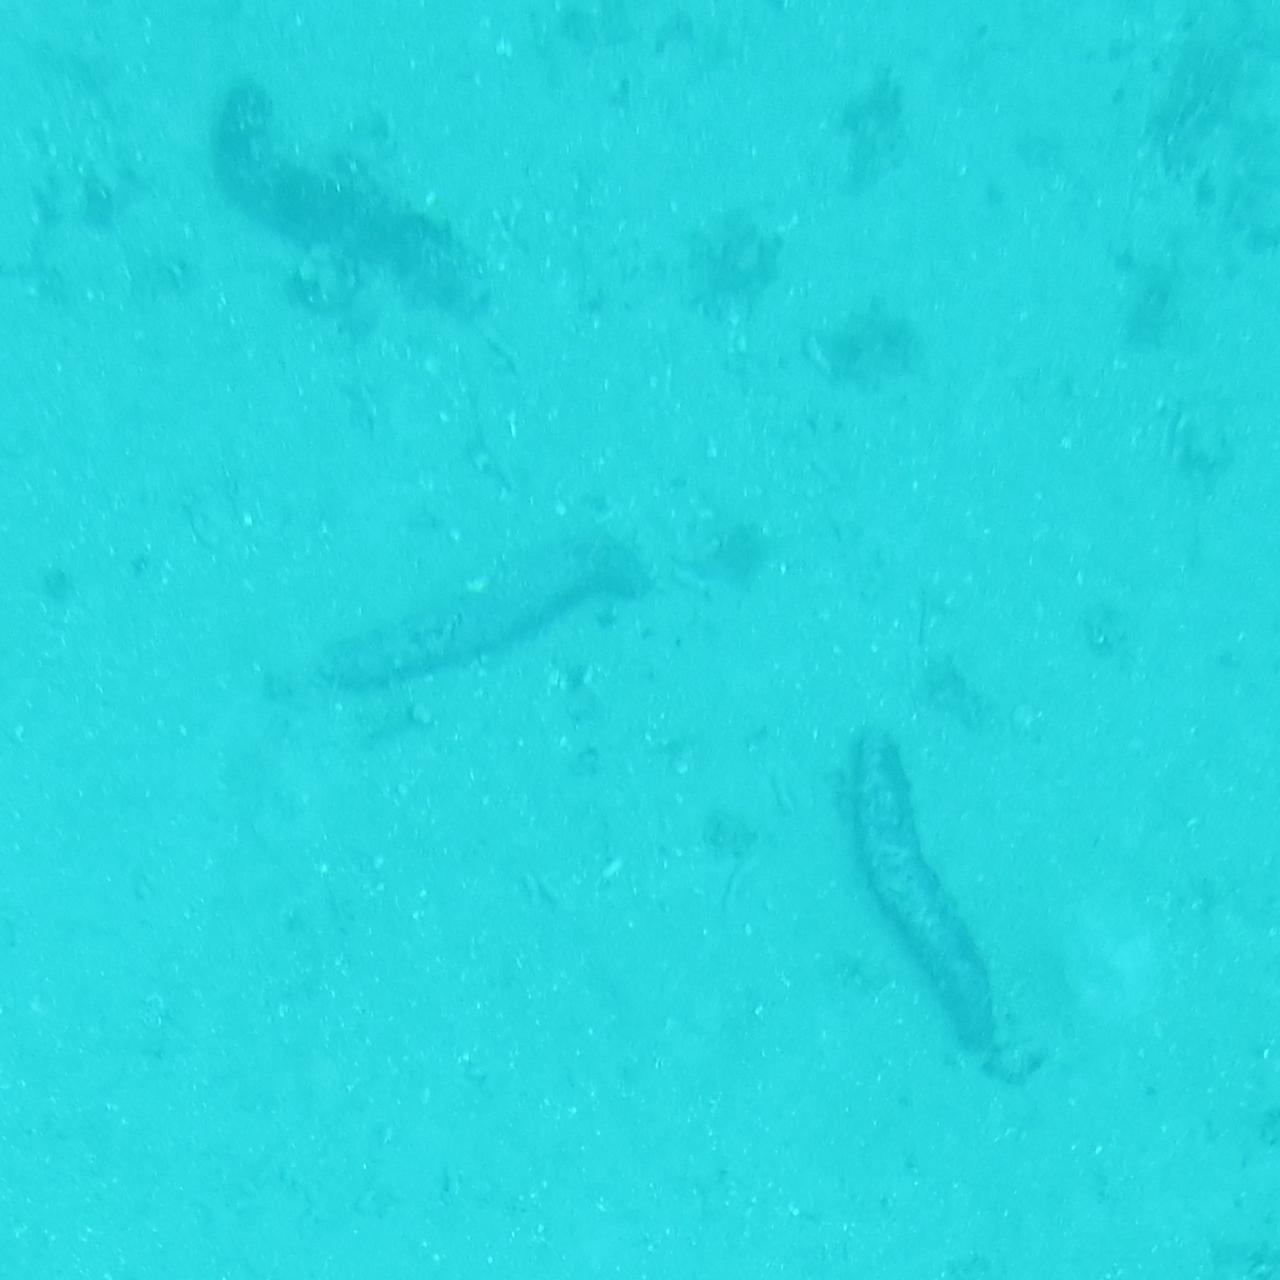Holothuria tubulosa: (203, 56, 505, 326), (837, 703, 1015, 1081), (319, 504, 654, 689)
